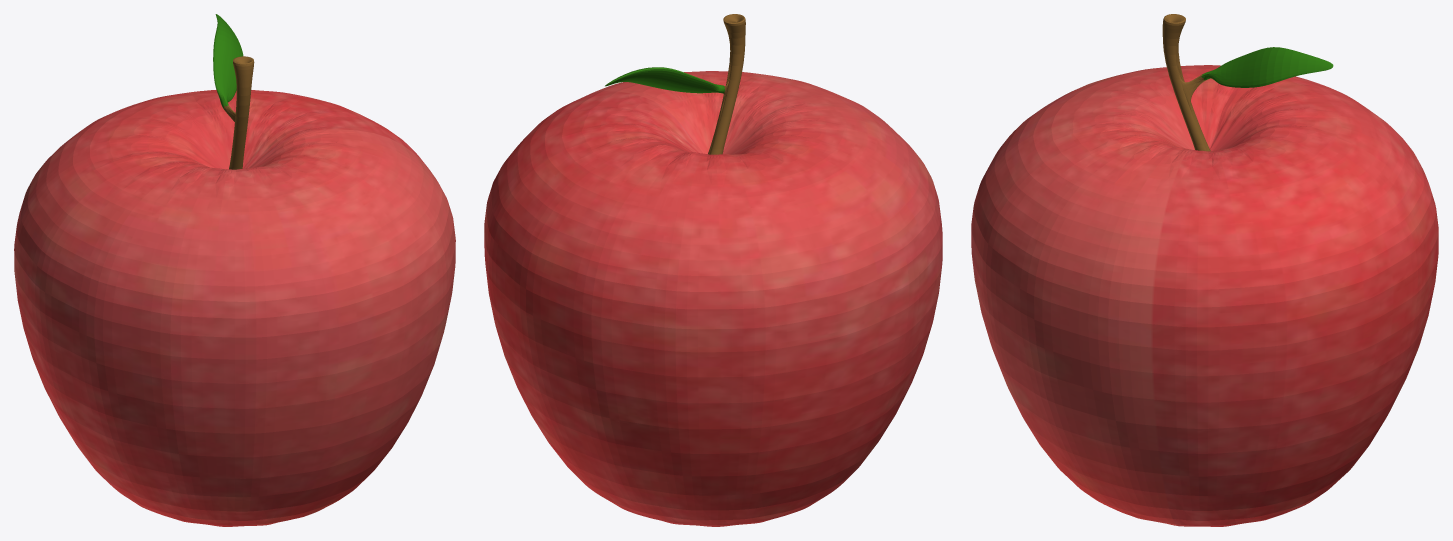
Rendered from Apple.dae.
The picture shows the model from 3 angles, left to right: view 1: azimuth 30°, elevation 25°; view 2: azimuth 150°, elevation 25°; view 3: azimuth 270°, elevation 25°; orthographic projection. The views are drawn at different scales.
Visible parts, largest first — view 1: Apple; view 2: Apple; view 3: Apple.
Boxes of the visible parts, <box> form: Apple: <box>14,14,455,526</box>; Apple: <box>484,14,942,526</box>; Apple: <box>971,14,1438,526</box>.
Size of the model in its own units: 0.1233 by 0.1351 by 0.1233.
3 materials, 1 textured.
